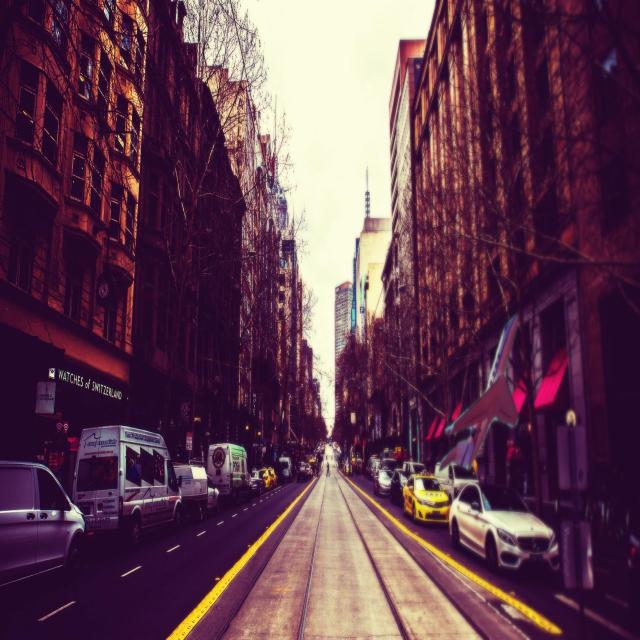airplane: (435, 312, 520, 474)
